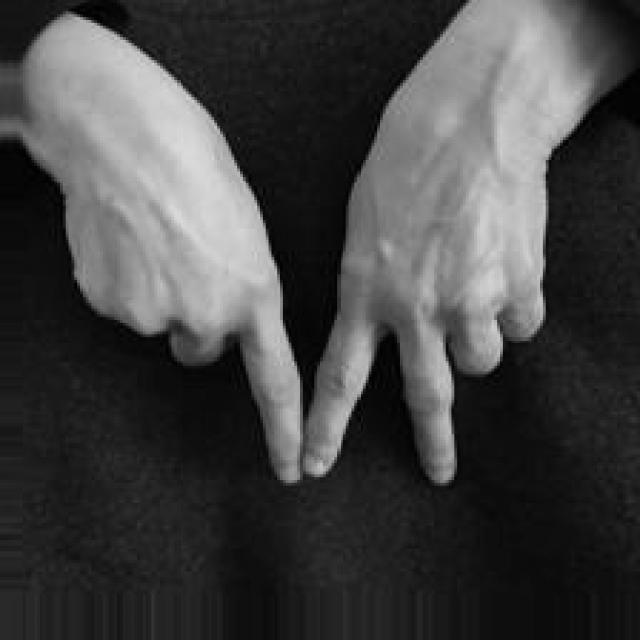N: (57, 91, 550, 497)
